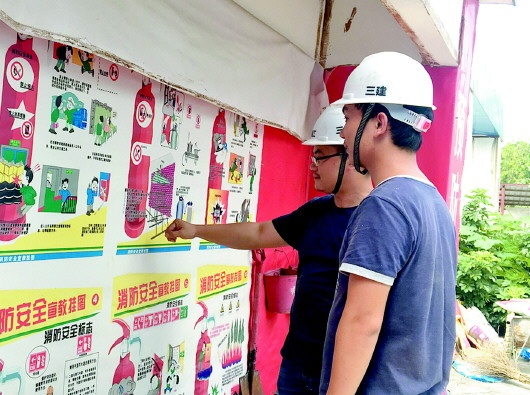white: (340, 51, 434, 172), (305, 97, 373, 192)
